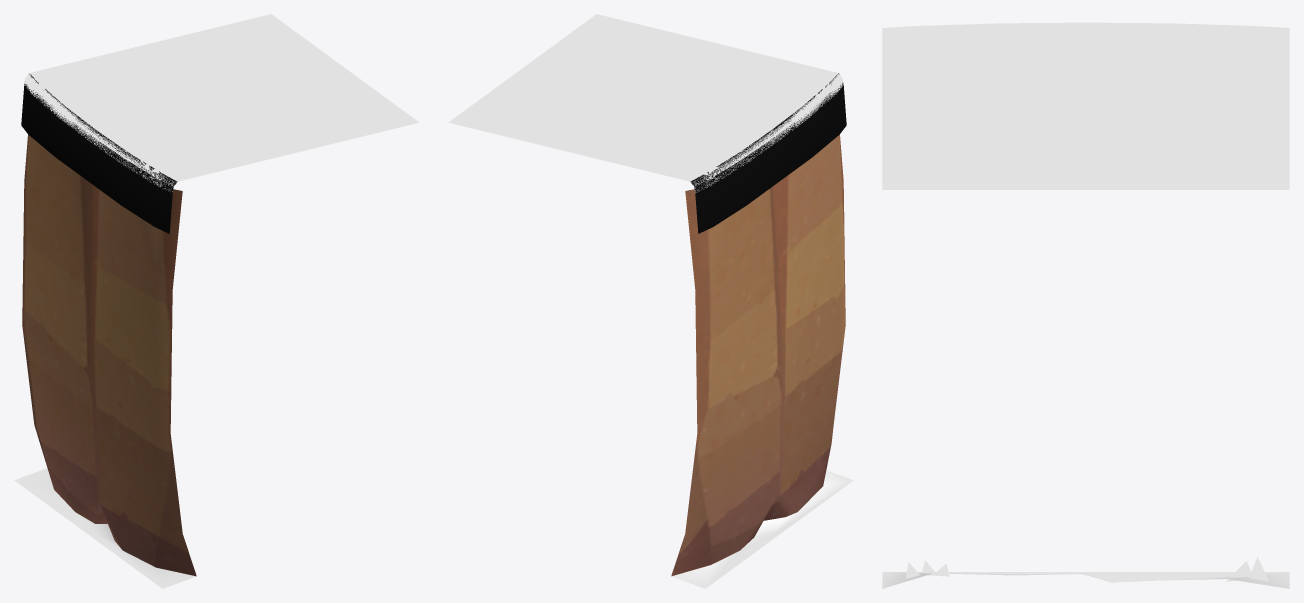
The picture shows the model from 3 angles, left to right: view 1: azimuth 30°, elevation 25°; view 2: azimuth 150°, elevation 25°; view 3: azimuth 270°, elevation 25°; orthographic projection. The views are drawn at different scales.
Parts seen in each view (by area): view 1: CliffD__mCliff, GrassT__mGrass, GrassOP__mGrassCliffXlu, GrassB__mGrass; view 2: CliffD__mCliff, GrassT__mGrass, GrassOP__mGrassCliffXlu, GrassB__mGrass; view 3: GrassT__mGrass, GrassB__mGrass, PGrassBD__mProcGrass.
Part boxes in pixels (x1,y1,x2,y2): CliffD__mCliff: [22, 134, 196, 576]; GrassT__mGrass: [24, 14, 419, 191]; GrassOP__mGrassCliffXlu: [21, 74, 177, 233]; GrassB__mGrass: [14, 468, 196, 588]; CliffD__mCliff: [671, 134, 845, 576]; GrassT__mGrass: [448, 14, 843, 192]; GrassOP__mGrassCliffXlu: [690, 73, 846, 233]; GrassB__mGrass: [671, 470, 853, 588]; GrassT__mGrass: [882, 22, 1289, 189]; GrassB__mGrass: [882, 572, 1289, 588]; PGrassBD__mProcGrass: [905, 557, 1268, 581].
Size of the model in its own units: 10 by 15.3 by 10.
Materials: 4 (1 with a texture image).
